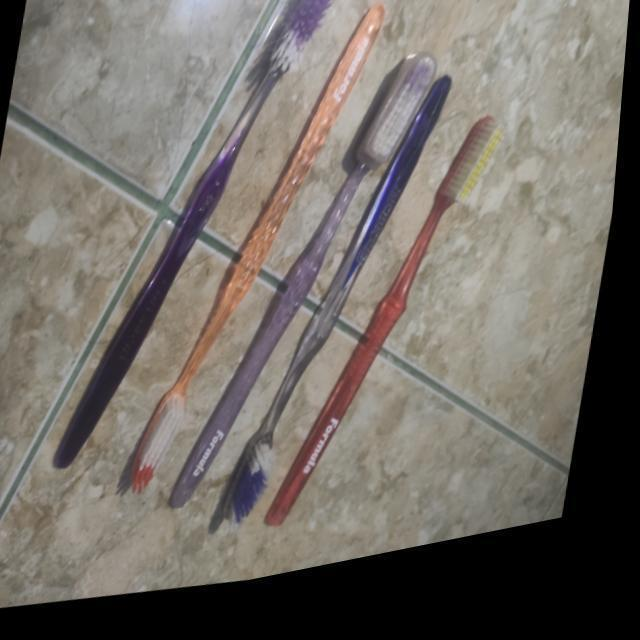toothbrush: (106, 0, 402, 509), (42, 0, 343, 494), (160, 59, 442, 534), (222, 49, 472, 552), (266, 110, 517, 549)
